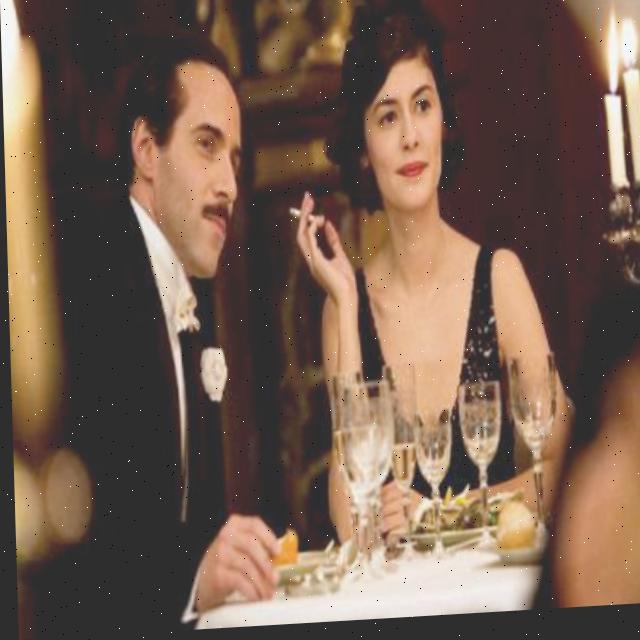cigarette: (285, 206, 324, 234)
